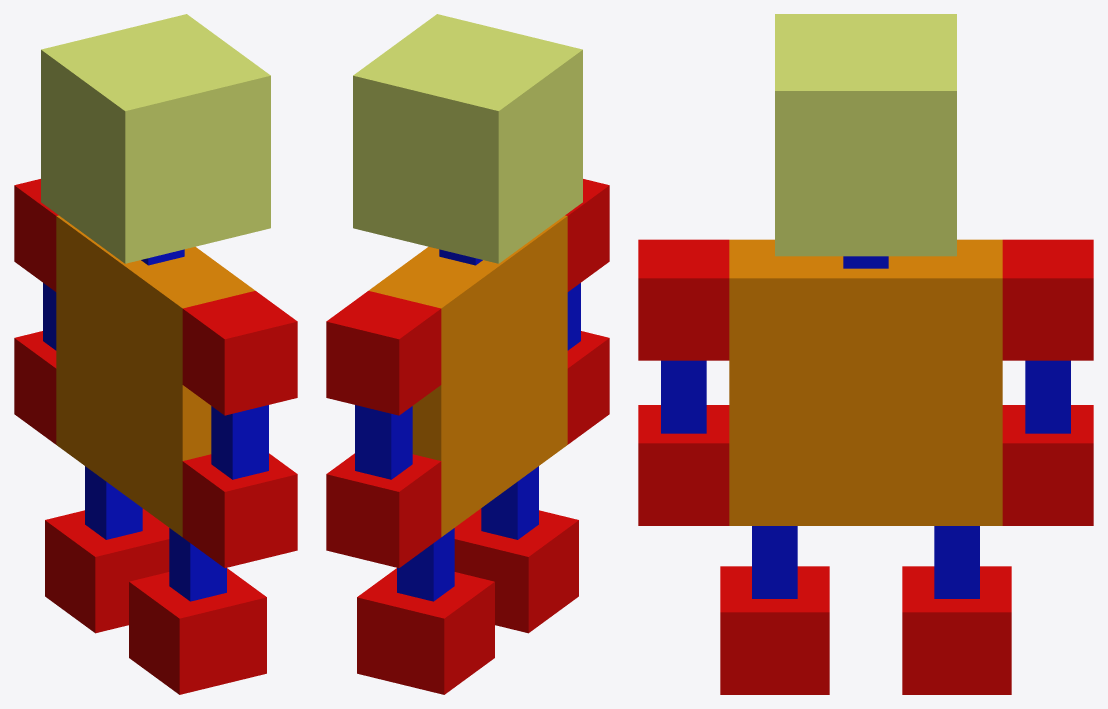
The model's file is MainCharacter.glb.
The picture shows the model from 3 angles, left to right: view 1: azimuth 30°, elevation 25°; view 2: azimuth 150°, elevation 25°; view 3: azimuth 270°, elevation 25°; orthographic projection. The views are drawn at different scales.
Parts seen in each view (by area): view 1: Character; view 2: Character; view 3: Character.
Part boxes in pixels (x1,y1,x2,y2): Character: (14, 14, 297, 694); Character: (326, 14, 609, 694); Character: (638, 14, 1093, 694).
Bounding box in the file's own units: 1 × 3.75 × 2.5.
